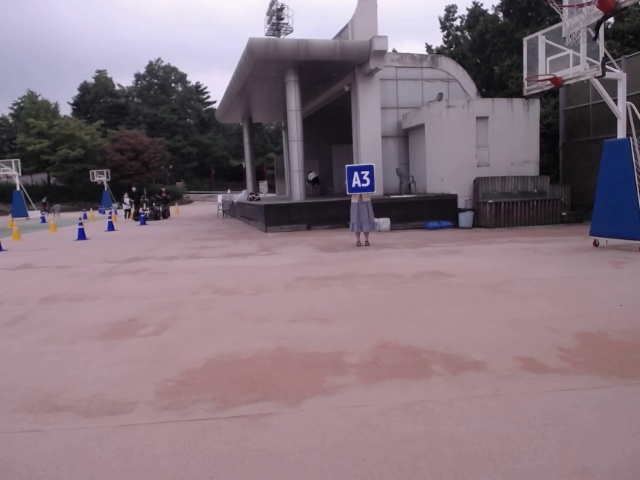delivery_a3: (346, 165, 376, 193)
